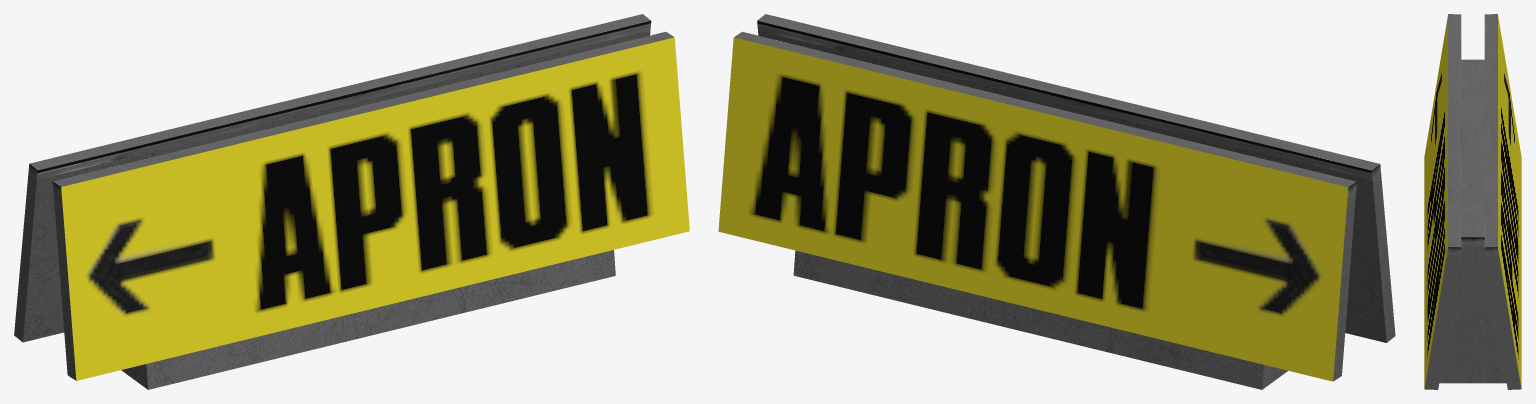
File: sign_d.FBX
3 views of the same model, side by side, from view 1: azimuth 30°, elevation 25°; view 2: azimuth 150°, elevation 25°; view 3: azimuth 270°, elevation 25° (orthographic). The views are drawn at different scales.
Visible parts, largest first — view 1: sign_d; view 2: sign_d; view 3: sign_d.
Part boxes in pixels (box(x1,y1,x2,y2)): sign_d: box(14, 14, 689, 389); sign_d: box(718, 14, 1395, 389); sign_d: box(1424, 14, 1521, 389).
Size of the model in its own units: 10.67 by 3.5 by 1.88.
